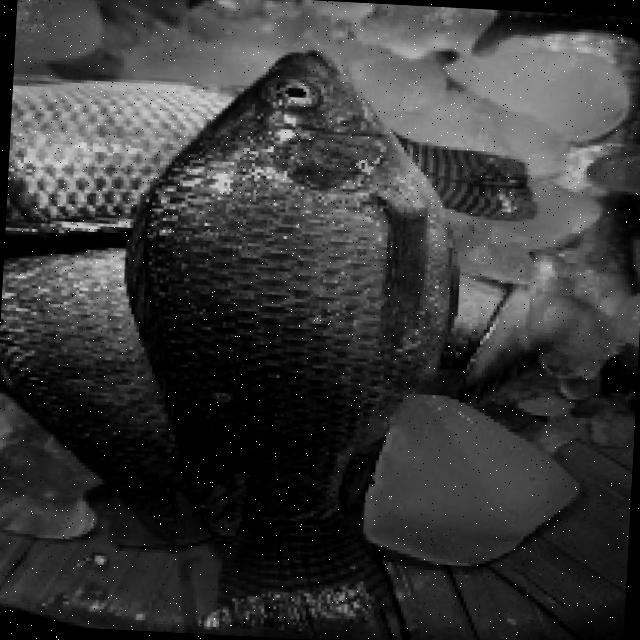Fresh: (77, 26, 488, 640)
